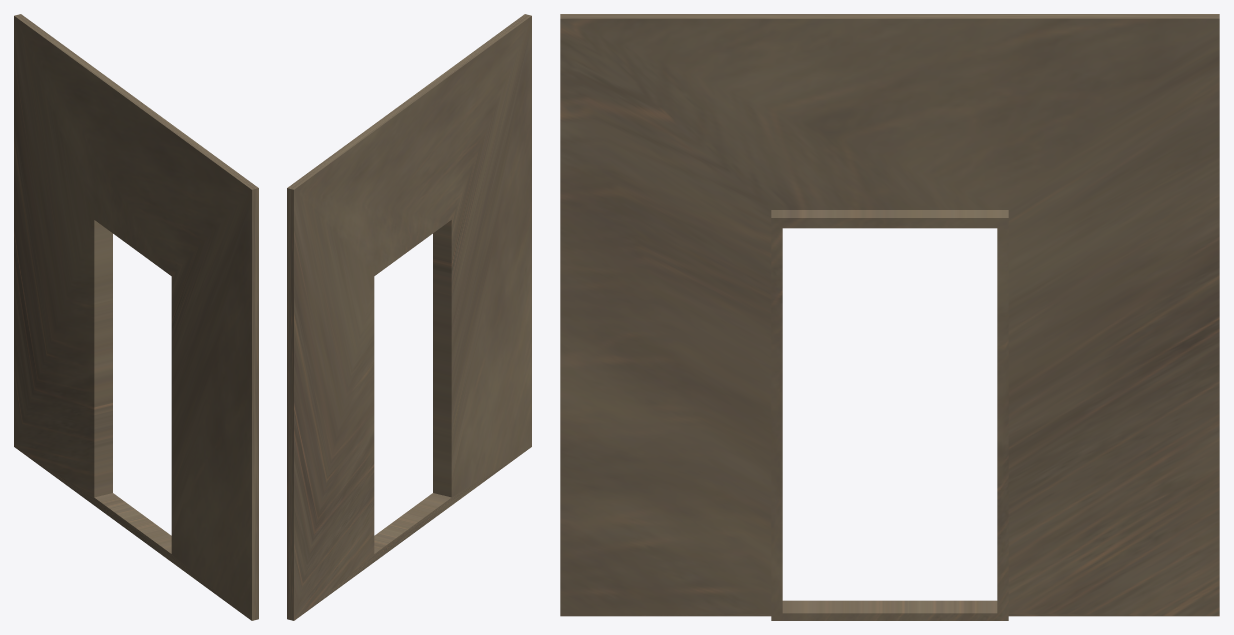
File: wall_door_smooth.obj
3 renders of one model, left to right at view 1: azimuth 30°, elevation 25°; view 2: azimuth 150°, elevation 25°; view 3: azimuth 270°, elevation 25°, orthographic. The views are drawn at different scales.
Visible parts, largest first — view 1: Cube; view 2: Cube; view 3: Cube.
Part boxes in pixels (x1,y1,x2,y2): Cube: (14,14,258,620); Cube: (287,14,531,620); Cube: (560,14,1219,620).
Size of the model in its own units: 0.3299 by 7.23 by 7.23.
